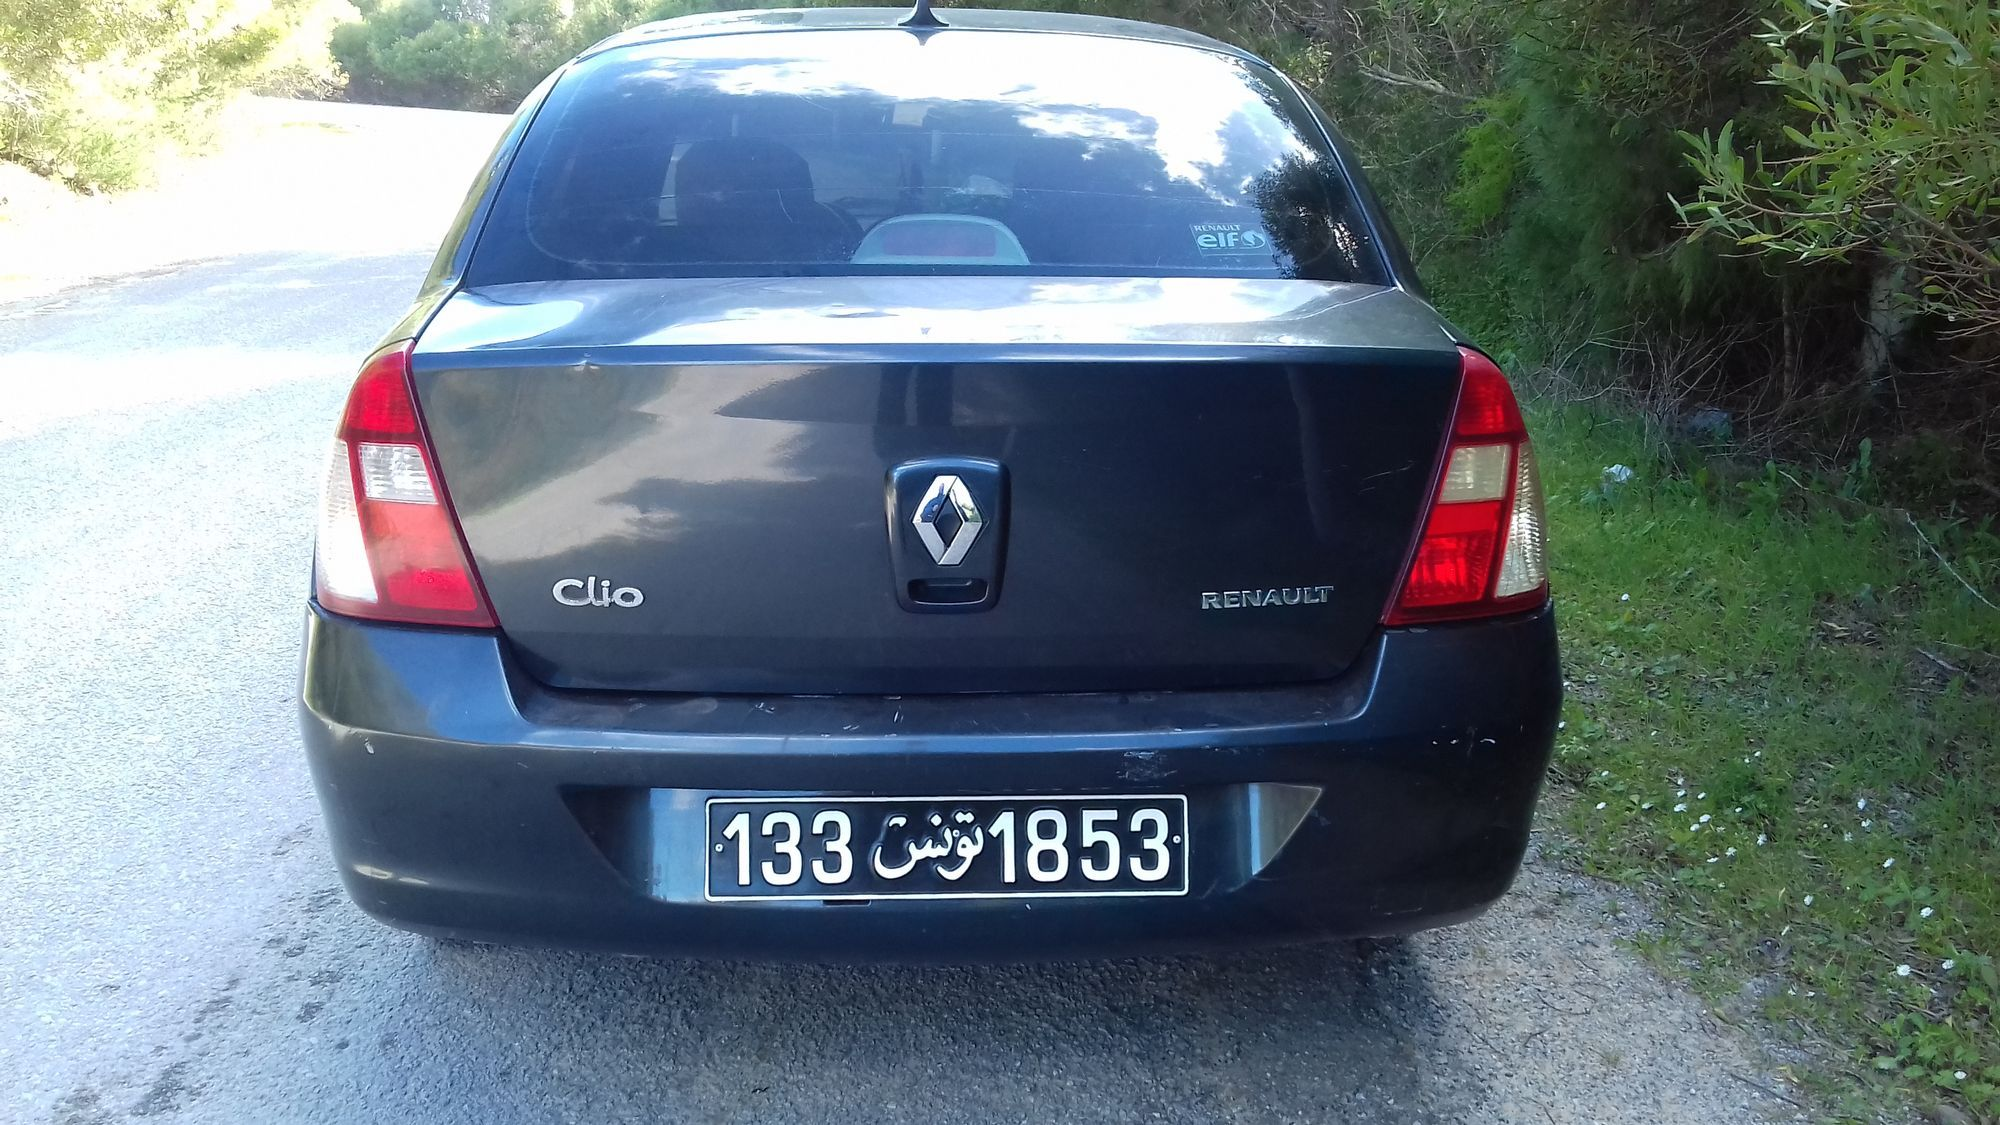LP: (698, 793, 1197, 909)
